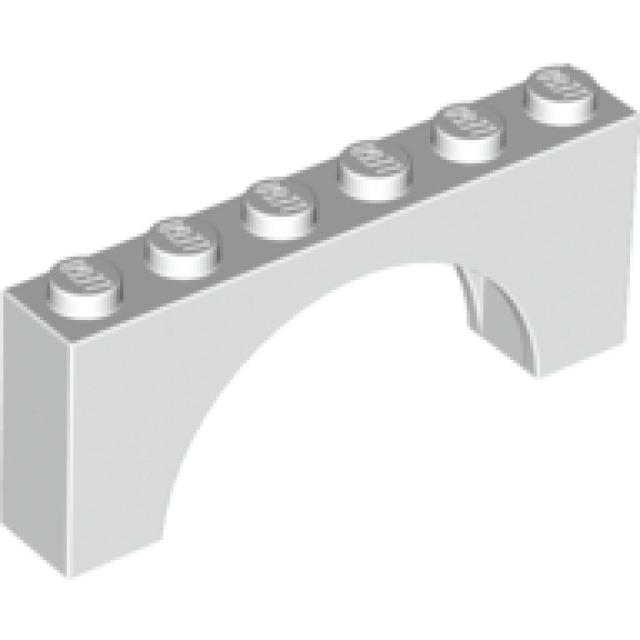White_Large: (2, 59, 638, 582)
